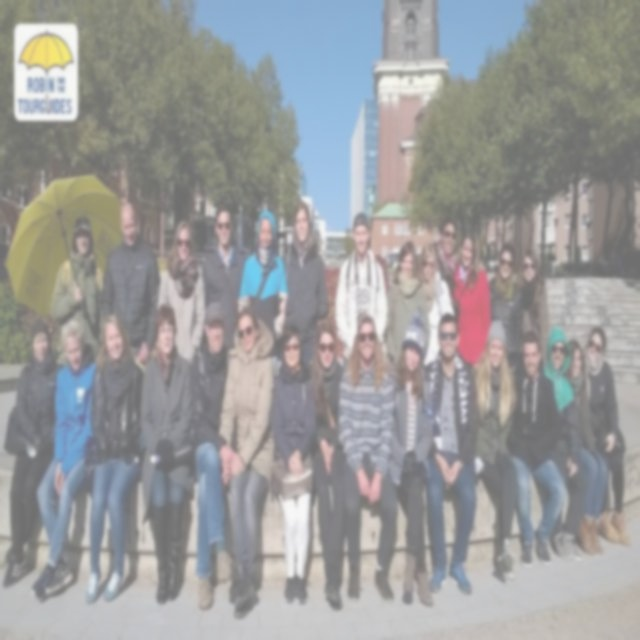pessoa: (217, 304, 282, 621), (30, 318, 99, 606), (336, 312, 397, 608), (84, 312, 144, 602), (420, 312, 480, 596), (1, 316, 61, 591), (141, 302, 194, 604), (189, 301, 239, 614), (505, 328, 566, 569), (388, 309, 434, 608), (270, 320, 318, 606), (470, 318, 518, 582), (583, 326, 633, 549), (310, 319, 348, 612), (100, 199, 162, 375), (274, 199, 330, 376), (542, 324, 582, 564), (50, 212, 106, 380), (566, 336, 608, 557), (237, 209, 289, 381), (334, 210, 389, 370), (156, 217, 206, 385), (202, 206, 246, 353), (386, 240, 430, 373), (451, 230, 492, 370), (488, 242, 523, 382), (417, 239, 455, 366), (432, 215, 486, 303), (514, 247, 550, 365), (484, 242, 496, 276), (378, 89, 394, 108)
